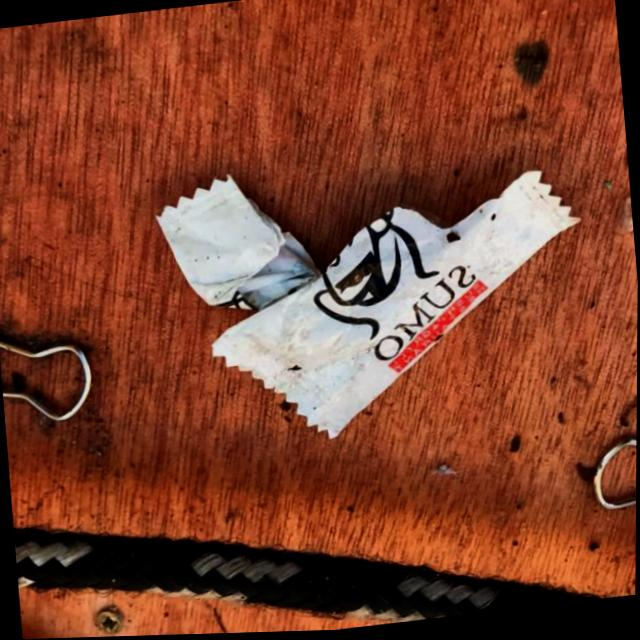Plastic: (147, 129, 604, 461)
